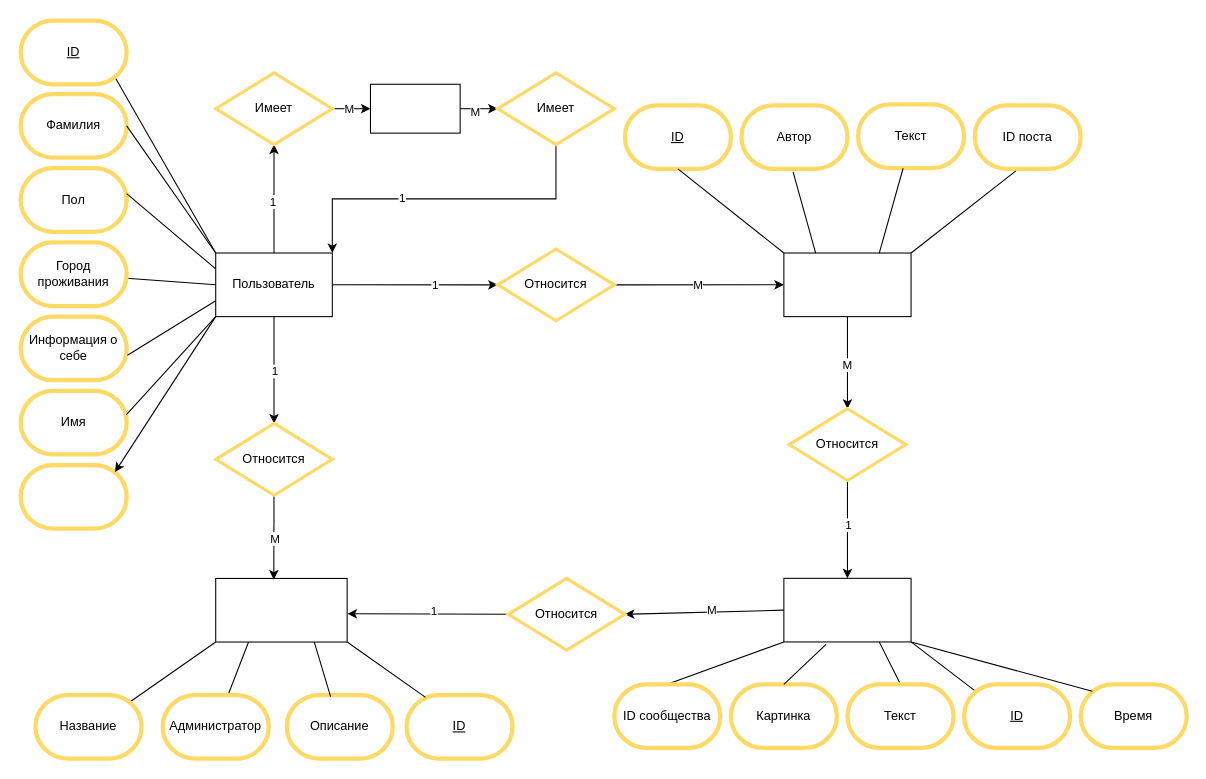
Some shapes in this 1206 by 779 pixel diagram are drawn without their labels. The shapes that lost their labels are listed below. From the top down, each one's box as (x1, y1, x2, y2) in pixels, then its label:
(369, 83, 460, 133): Друзья
(783, 252, 911, 317): Комментарии
(18, 462, 128, 530): Аватар
(215, 577, 347, 642): Сообщество
(783, 577, 911, 642): Посты
